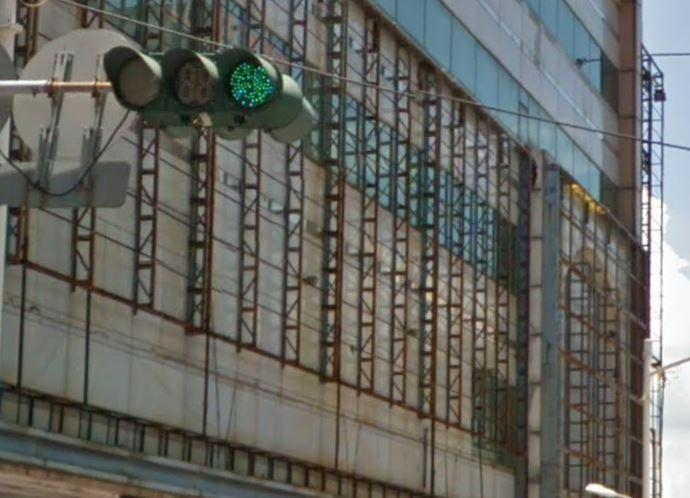green_traffic_light: (101, 41, 315, 140)
